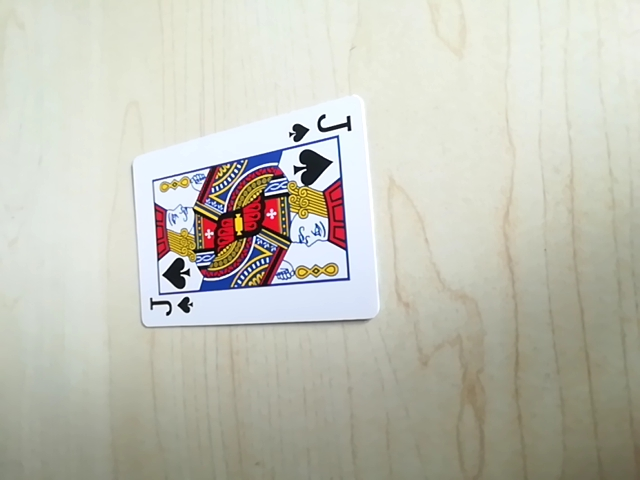ht j: (286, 109, 355, 146), (143, 288, 198, 326)
